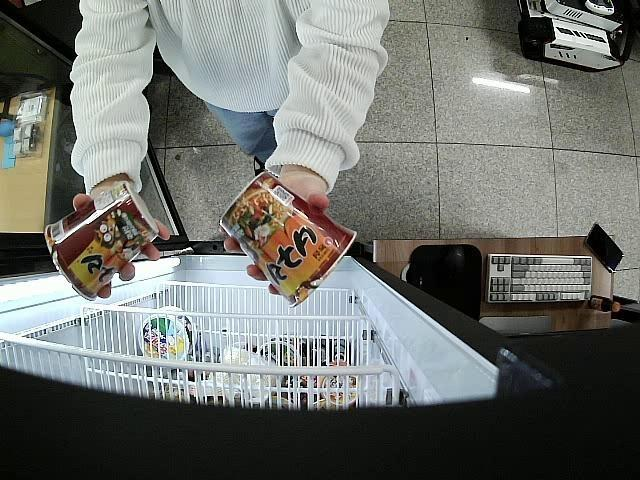06_nuguri_S: (218, 170, 358, 311), (44, 184, 158, 298)
